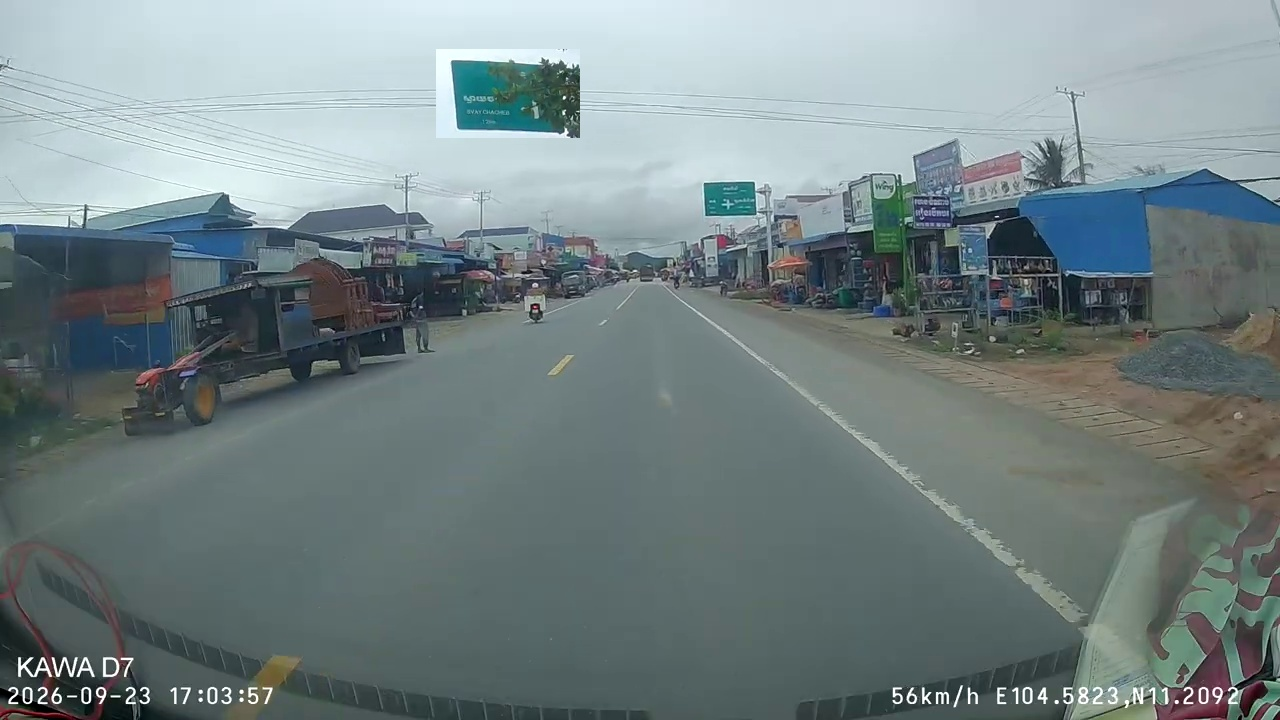direction_sign: (436, 49, 580, 138)
